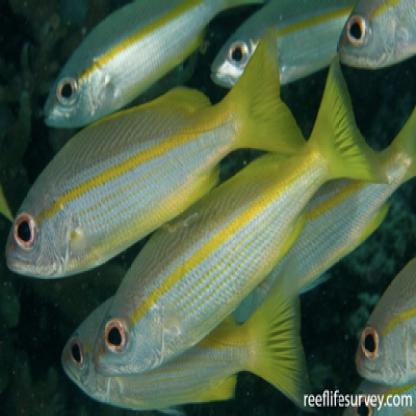snapper: (97, 48, 392, 380), (5, 24, 309, 280)
